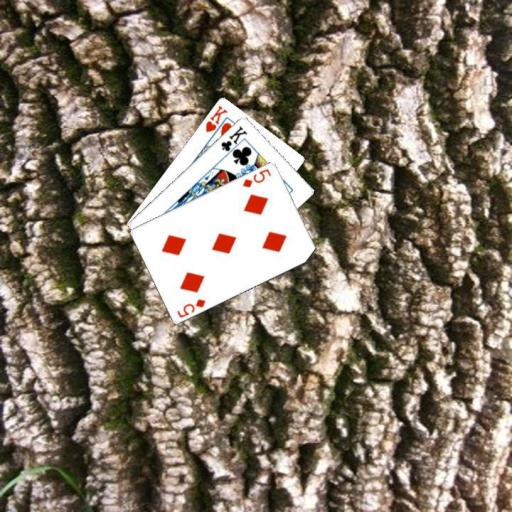5D: (174, 295, 208, 319), (240, 165, 272, 188)
KC: (217, 122, 249, 159)
KH: (202, 102, 229, 134)
